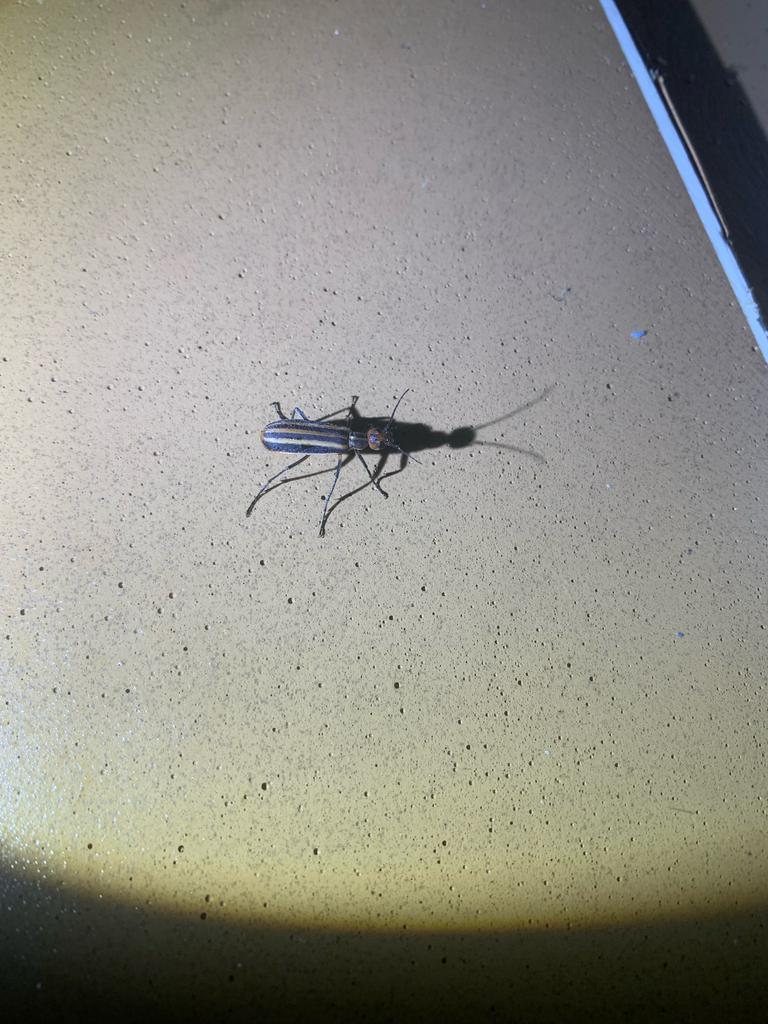blister_beetle: (198, 355, 534, 570)
